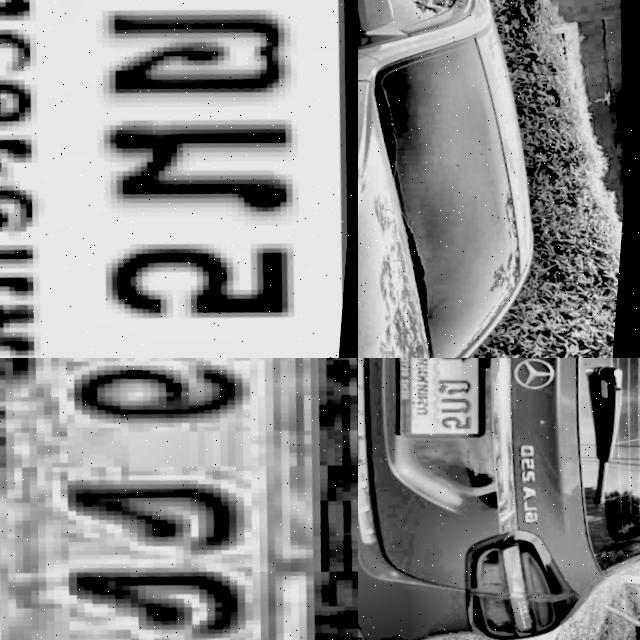license-plate: (0, 0, 358, 358), (0, 358, 358, 640), (389, 358, 508, 442)
